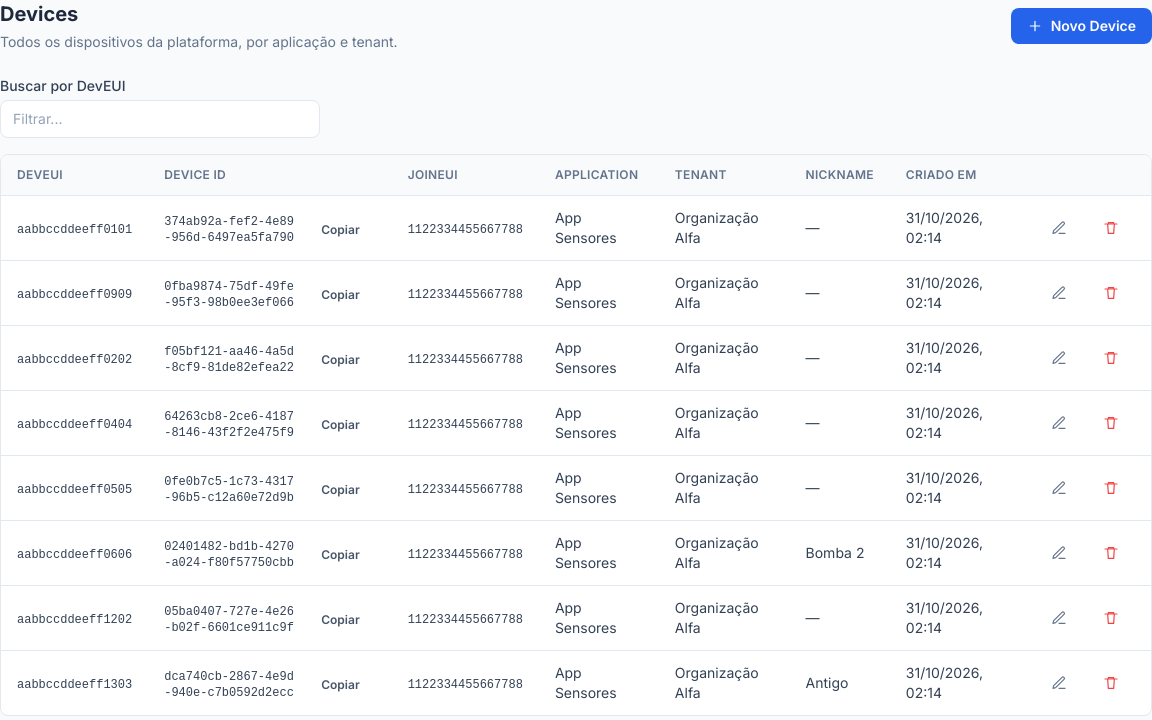
Test: DeviceListPage › surfaces an error when saving the nickname fails
This screenshot has width=1152, height=720.
Expected: the text "aabbccddeeff1303" is shown, left=17, top=678, right=132, bottom=692
Click the button named "Editar nickname aabbccddeeff1303": coordinates (1059, 683) left=1035, top=667, right=1083, bottom=699
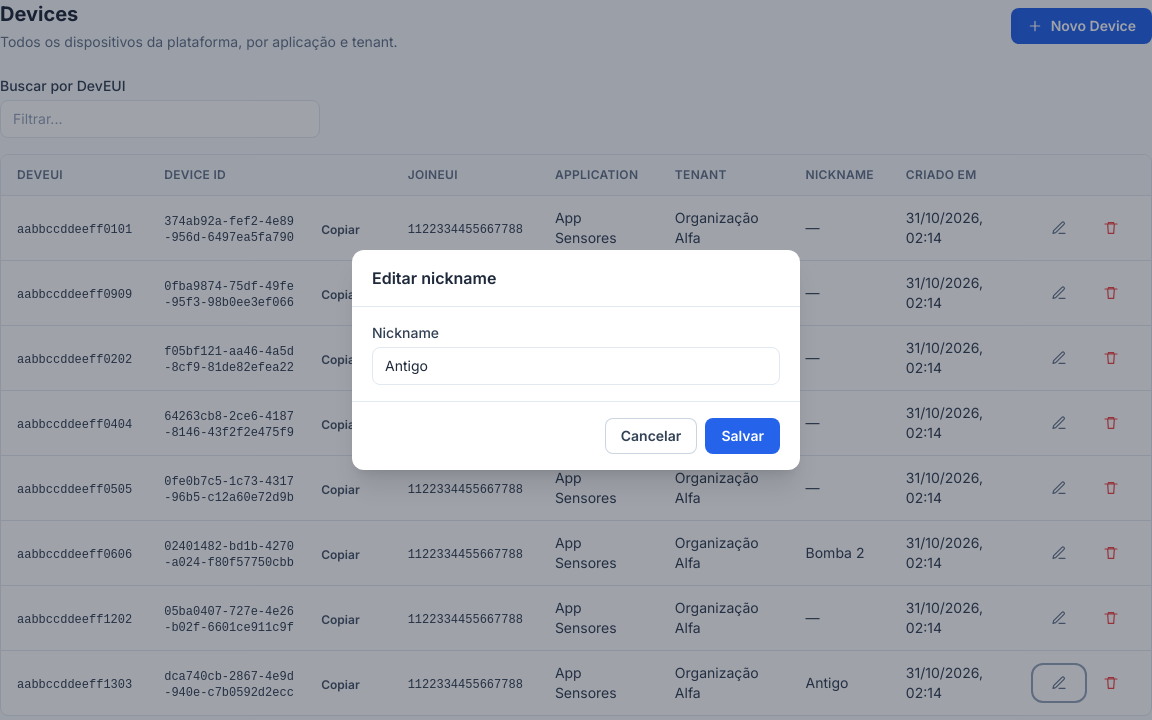
Replace the text in the field labelled "Nickname" with "Novo": coordinates (576, 366) left=372, top=347, right=780, bottom=385
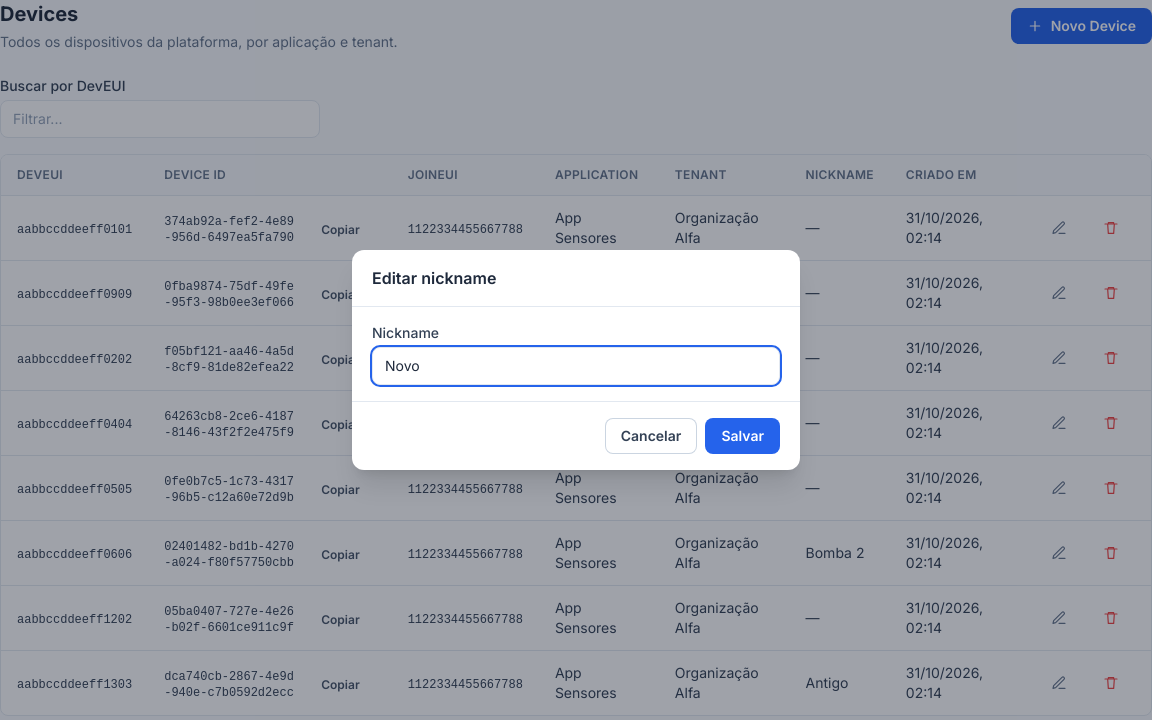
Click the button "Salvar": coordinates (743, 436) left=705, top=418, right=780, bottom=454
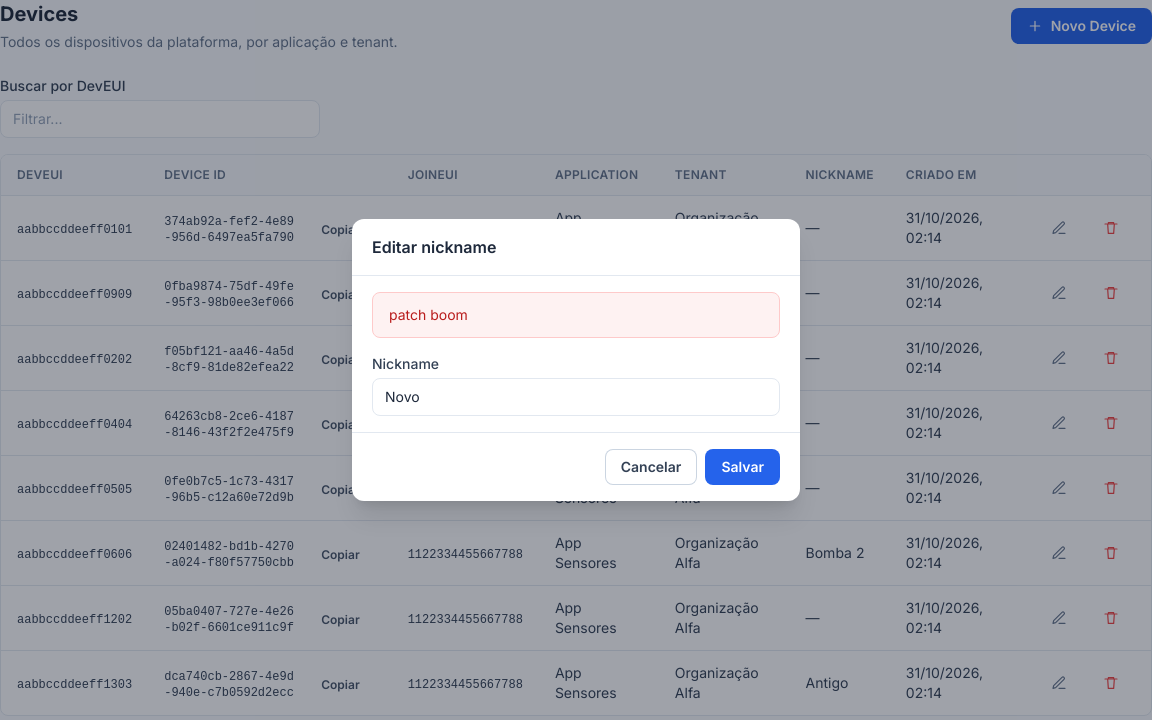
Expected: the text "patch boom" is shown, left=389, top=305, right=468, bottom=325
